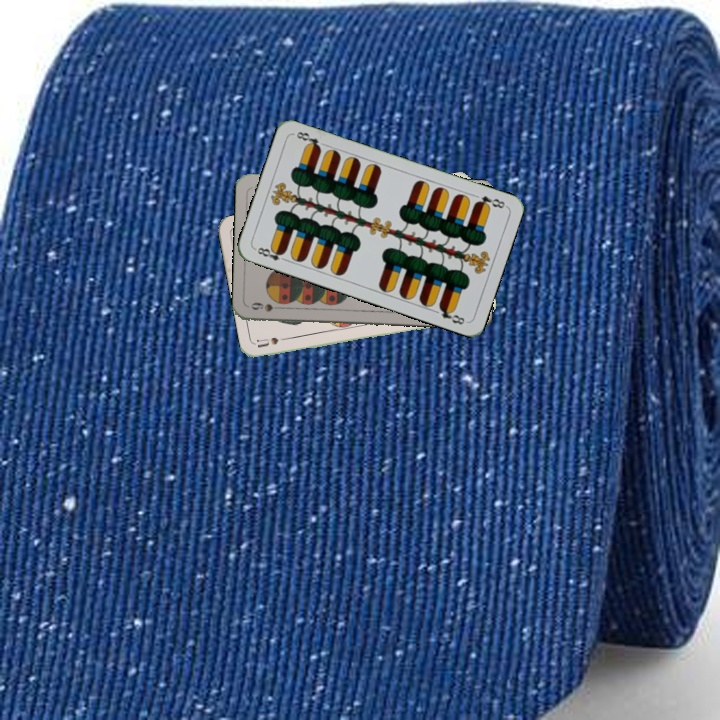E8: (253, 243, 290, 264), (470, 192, 508, 211)
S9: (247, 298, 287, 314)
SU: (254, 333, 294, 351)
